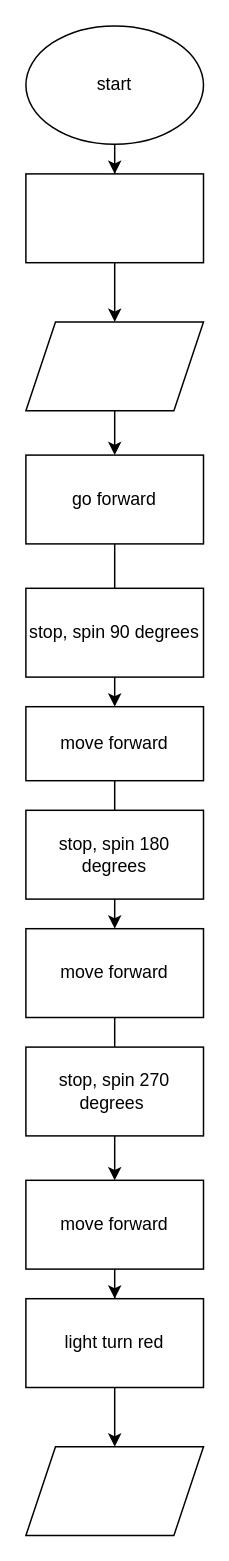
Image size: 229x1561. Some labels were removed from this diagram. Each missing label, with the centre of its shape:
"im done and I need water": the point at 114,1490
"ready, set, go": the point at 114,365
light to green: the point at 114,217
